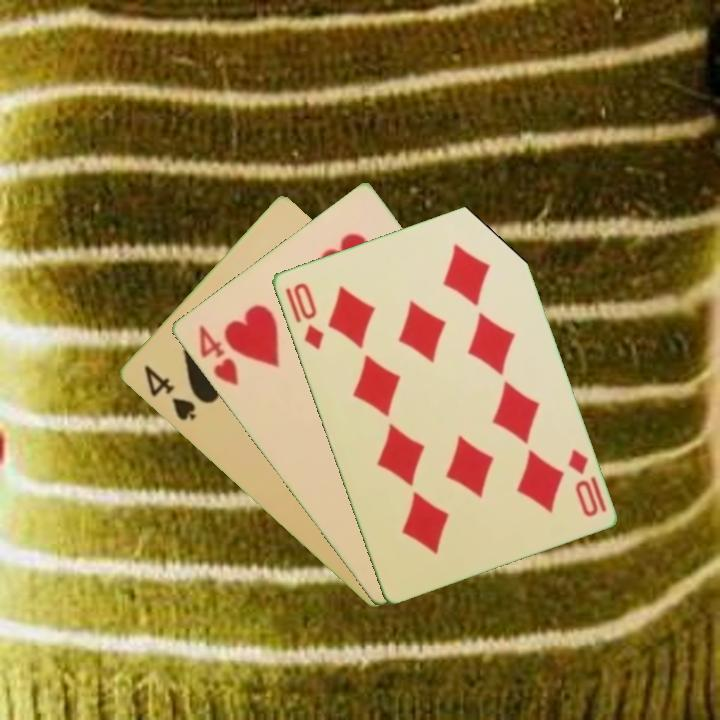10d: (564, 445, 601, 520), (289, 278, 326, 352)
4h: (194, 321, 241, 389)
4s: (140, 361, 199, 424)
